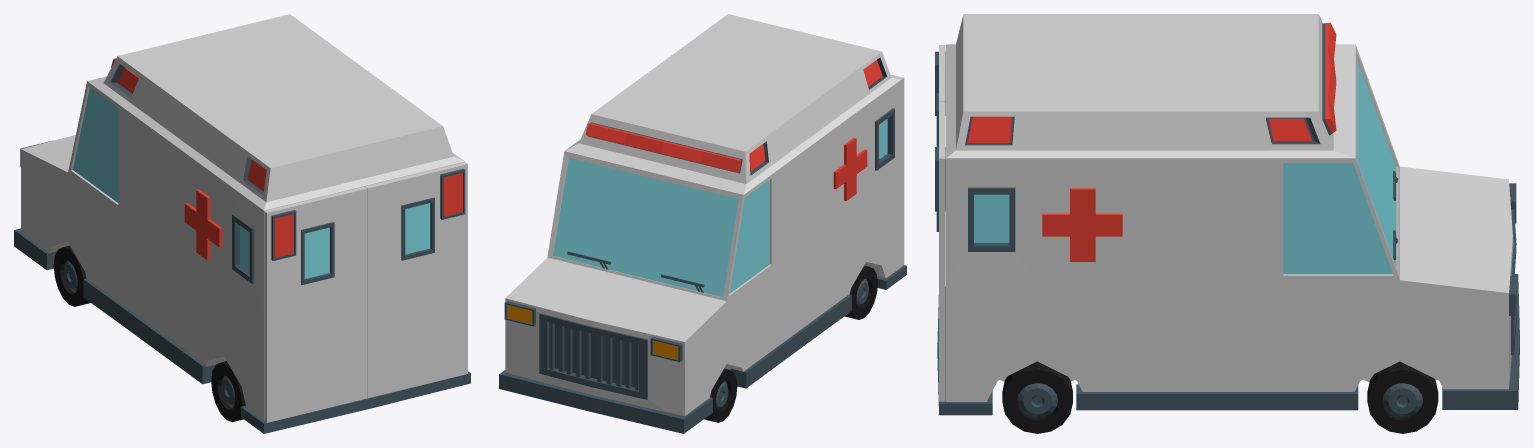
Rendered from scene_5QLCSBiwFP.glb.
The picture shows the model from 3 angles, left to right: view 1: azimuth 30°, elevation 25°; view 2: azimuth 150°, elevation 25°; view 3: azimuth 270°, elevation 25°; orthographic projection. The views are drawn at different scales.
Parts seen in each view (by area): view 1: Ambulance_Circle.001; view 2: Ambulance_Circle.001; view 3: Ambulance_Circle.001.
Part boxes in pixels (<box>): Ambulance_Circle.001: <box>14,14,470,433</box>; Ambulance_Circle.001: <box>499,14,906,433</box>; Ambulance_Circle.001: <box>935,14,1519,433</box>.
Bounding box in the file's own units: 7.84 × 9.8 × 16.47.
